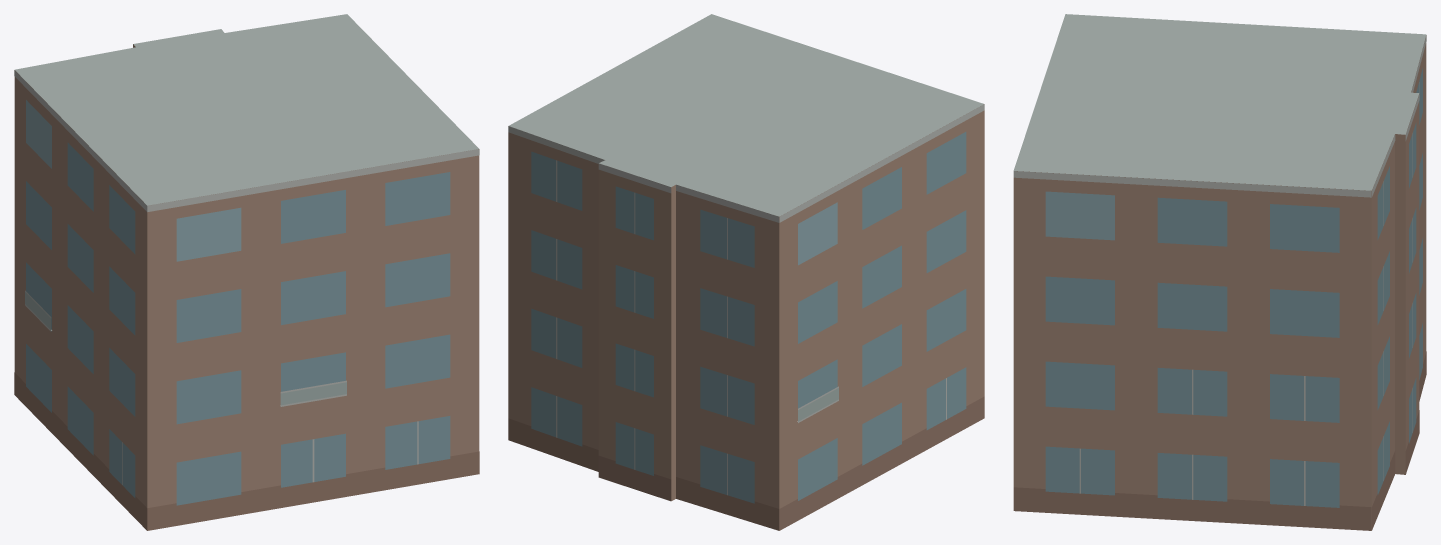
File: survey-upis-32914667.glb
3 views of the same model, side by side, from view 1: azimuth 30°, elevation 25°; view 2: azimuth 150°, elevation 25°; view 3: azimuth 270°, elevation 25° (orthographic). The views are drawn at different scales.
Parts seen in each view (by area): view 1: survey-upis-32914667.tmp; view 2: survey-upis-32914667.tmp; view 3: survey-upis-32914667.tmp.
Part boxes in pixels (bbox=[...]): survey-upis-32914667.tmp: bbox=[14, 14, 479, 530]; survey-upis-32914667.tmp: bbox=[508, 14, 984, 530]; survey-upis-32914667.tmp: bbox=[1013, 14, 1426, 530].
Size of the model in its own units: 13.61 by 12.2 by 13.44.
